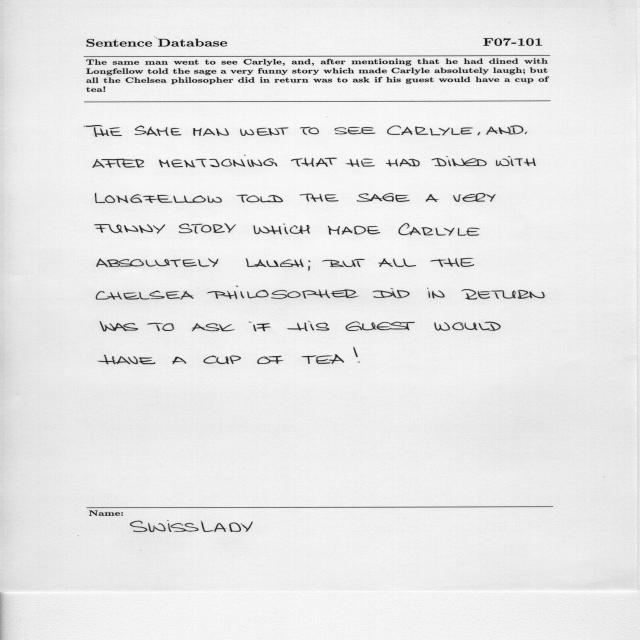word: (207, 286, 359, 299), (159, 155, 277, 167), (95, 193, 222, 203), (97, 258, 218, 267), (398, 223, 480, 236), (461, 289, 545, 300), (96, 291, 194, 300), (387, 126, 473, 136), (94, 224, 165, 234), (346, 321, 415, 331), (253, 224, 310, 235), (434, 322, 501, 331), (179, 224, 236, 234), (431, 156, 487, 166), (246, 258, 304, 267), (98, 355, 156, 364), (135, 125, 182, 136), (357, 193, 409, 202), (328, 226, 380, 235), (93, 159, 144, 168), (85, 125, 122, 137), (240, 127, 288, 136), (287, 321, 330, 331), (302, 354, 344, 364), (100, 321, 138, 332), (291, 158, 337, 167), (496, 156, 536, 166), (430, 258, 474, 267), (453, 193, 496, 202), (236, 195, 283, 203), (487, 125, 524, 135), (373, 288, 409, 298), (322, 259, 365, 267), (192, 323, 235, 331), (300, 193, 338, 202), (379, 258, 416, 267), (204, 356, 241, 364), (193, 128, 229, 136), (335, 127, 376, 134), (386, 159, 420, 167), (345, 159, 375, 167), (249, 322, 271, 332), (147, 323, 174, 331), (257, 356, 284, 364), (427, 288, 445, 298), (300, 127, 319, 135), (425, 194, 439, 202), (353, 347, 360, 362), (172, 357, 186, 364), (309, 260, 311, 271), (478, 132, 481, 135), (525, 132, 527, 134)
